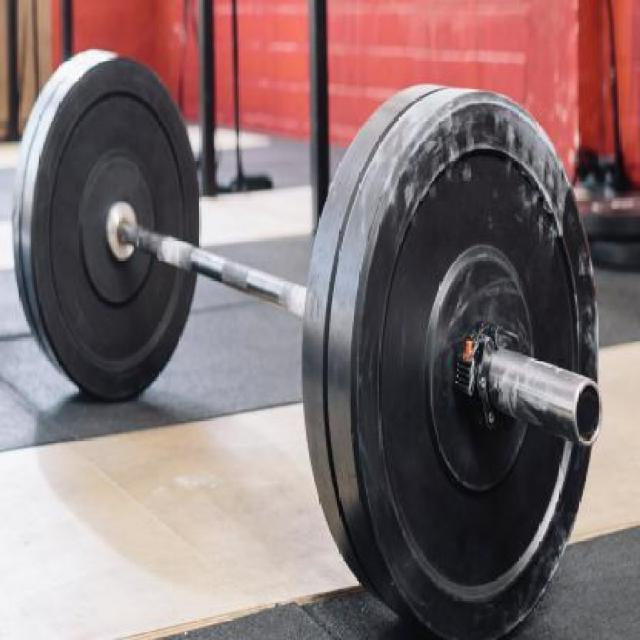Barbell: (570, 369, 604, 457)
